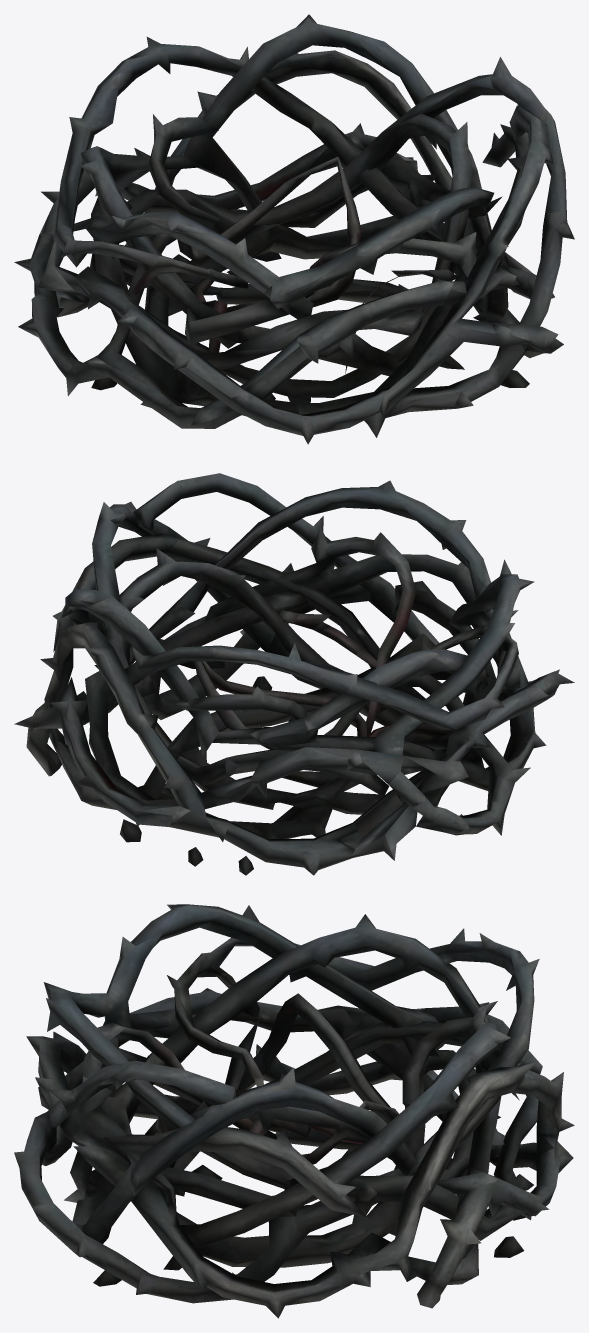
Rendered from thorns.glb.
The picture shows the model from 3 angles, top to bottom: view 1: azimuth 30°, elevation 25°; view 2: azimuth 150°, elevation 25°; view 3: azimuth 270°, elevation 25°; orthographic projection. The views are drawn at different scales.
Visible parts, largest first — view 1: model; view 2: model; view 3: model.
Part boxes in pixels (x1,y1,x2,y2): model: (14,14,574,444); model: (14,473,574,875); model: (14,904,574,1318).
Bounding box in the file's own units: 1.99 × 1 × 2.02.
1 material, 1 textured.
